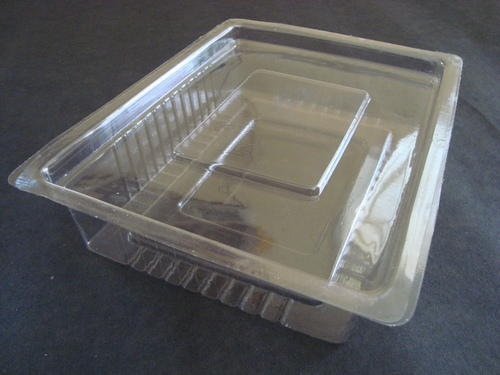PlasticBox: (6, 15, 466, 350)
